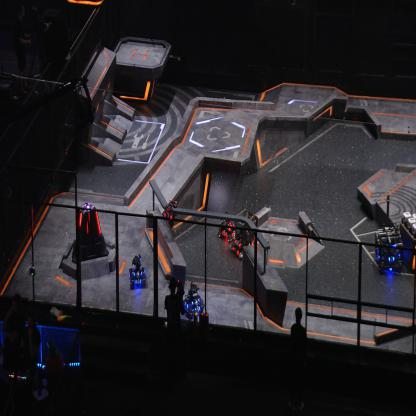car: (228, 207, 258, 260), (374, 226, 404, 274), (128, 253, 150, 291), (184, 280, 206, 316), (217, 209, 237, 242)
